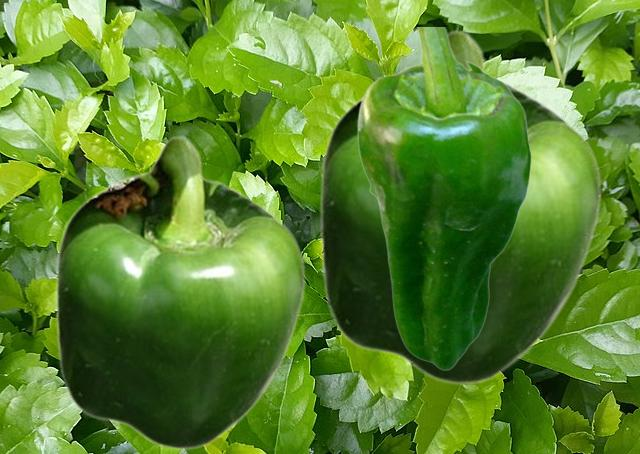bell_pepper: (318, 29, 601, 385), (54, 135, 305, 450), (356, 27, 531, 370)
